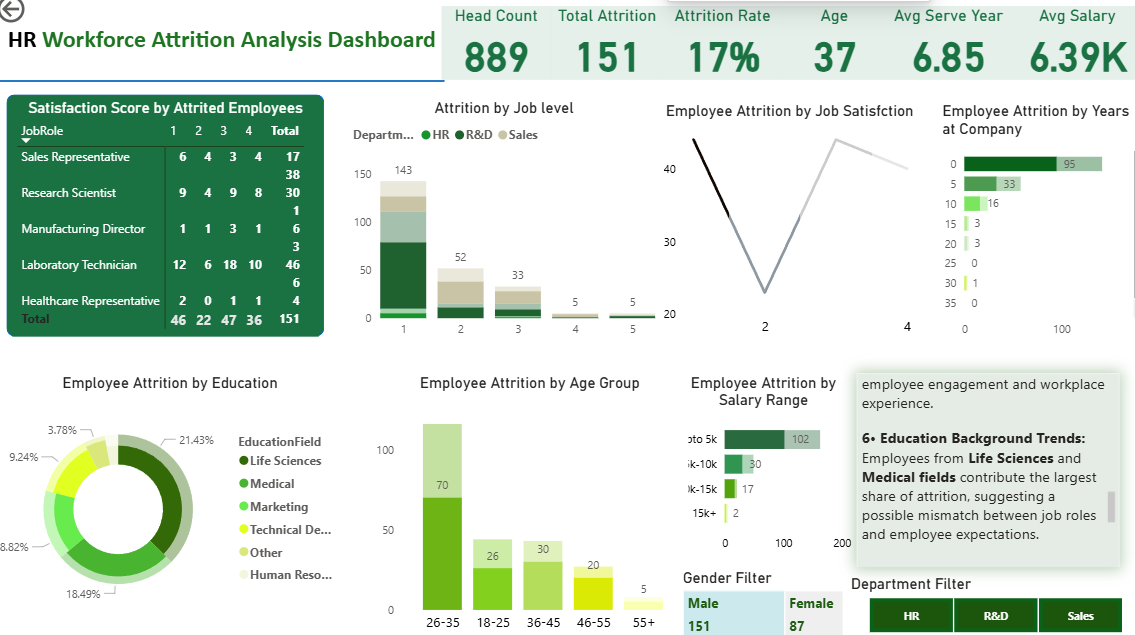

This screenshot's page, from the dashboard's own definition file:
{"tool":"powerbi","page":{"name":"HR ATTRITION DASHBOARD","canvas":[1280,720],"ordinal":0},"visuals":[{"type":"shape","box":[14.6,115,353,268.8],"z":0},{"type":"card","title":"Total Attrition","fields":{"Values":["Sum(HR_Analytics.Attrition_Count)"]},"box":[620,16.7,125,81.7],"z":1000},{"type":"card","title":"Attrition Rate","fields":{"Values":["HR_Analytics.Attrition_Rate"]},"box":[745,16.7,131.7,81.7],"z":2000},{"type":"card","title":"Age","fields":{"Values":["HR_Analytics.avg_age"]},"box":[876.7,16.7,116.7,81.7],"z":3000},{"type":"card","title":"Head Count","fields":{"Values":["CountNonNull(HR_Analytics.EmpID)"]},"box":[498.3,16.7,121.7,81.7],"z":4000},{"type":"actionButton","box":[0,0,100,40],"z":5000},{"type":"pivotTable","title":"Satisfaction Score by Attrited Employees","fields":{"Rows":["HR_Analytics.JobRole"],"Columns":["HR_Analytics.JobSatisfaction"],"Values":["Sum(HR_Analytics.Attrition_Count)"]},"box":[21,119.8,340,263.9],"z":6000},{"type":"card","title":"Avg Salary","fields":{"Values":["Avg(HR_Analytics.MonthlyIncome)"]},"box":[1130,16.7,150,81.7],"z":7000},{"type":"card","title":"Avg Serve Year","fields":{"Values":["Avg(HR_Analytics.YearsAtCompany)"]},"box":[993.3,16.7,136.7,81.7],"z":8000},{"type":"barChart","title":"Employee Attrition by Salary Range","fields":{"Y":["Sum(HR_Analytics.Attrition_Count)"],"Category":["HR_Analytics.SalarySlab"]},"box":[751.3,424.2,208.9,215.4],"z":9000},{"type":"donutChart","title":"Employee Attrition by Education","fields":{"Y":["Sum(HR_Analytics.Attrition_Count)"],"Category":["HR_Analytics.EducationField"]},"box":[0,424.2,393.5,281.7],"z":10000},{"type":"columnChart","title":" Employee Attrition by Age Group","fields":{"Category":["HR_Analytics.AgeGroup"],"Y":["Sum(HR_Analytics.Attrition_Count)"]},"box":[419.4,424.2,353,296.3],"z":11000},{"type":"lineChart","title":"Employee Attrition by Job Satisfction","fields":{"Y":["Sum(HR_Analytics.Attrition_Count)"],"Category":["HR_Analytics.EnvironmentSatisfaction"]},"box":[740,122.8,290.5,269.7],"z":12000},{"type":"columnChart","title":"Attrition by Job level","fields":{"Category":["HR_Analytics.JobLevel"],"Y":["Sum(HR_Analytics.Attrition_Count)"],"Series":["HR_Analytics.Department"]},"box":[394.2,119.3,345.8,273.2],"z":13000},{"type":"treemap","title":"Gender Filter","fields":{"Group":["HR_Analytics.Gender"],"Values":["Sum(HR_Analytics.Attrition_Count)"]},"box":[761,641.2,187.8,79.3],"z":14000},{"type":"slicer","title":"Department Filter","fields":{"Values":["HR_Analytics.Department"]},"box":[948.9,647.7,330.3,71.2],"z":15000},{"type":"textbox","box":[0,13,508.4,89.1],"z":16000},{"type":"textbox","box":[960.2,424.2,291.5,215.4],"z":17000},{"type":"shape","box":[0,33.3,501.7,133.3],"z":18000},{"type":"barChart","title":"Employee Attrition by Years at Company","fields":{"Y":["Sum(HR_Analytics.Attrition_Count)"],"Category":["HR_Analytics.YearsAtCompany (bins)"]},"box":[1049.3,123.1,229.9,270.4],"z":19000}]}

Visuals, with their boxes in screenshot pixels (x1, y1, x2, y2), scaled from the page's 1280x720 canvas onto the 1135x635 screenshot:
shape: (13, 101, 326, 338)
"Total Attrition" card: (550, 15, 661, 87)
"Attrition Rate" card: (661, 15, 777, 87)
"Age" card: (777, 15, 881, 87)
"Head Count" card: (442, 15, 550, 87)
actionButton: (0, 0, 89, 35)
"Satisfaction Score by Attrited Employees" pivotTable: (19, 106, 320, 338)
"Avg Salary" card: (1002, 15, 1134, 87)
"Avg Serve Year" card: (881, 15, 1002, 87)
"Employee Attrition by Salary Range" barChart: (666, 374, 851, 564)
"Employee Attrition by Education" donutChart: (0, 374, 349, 623)
" Employee Attrition by Age Group" columnChart: (372, 374, 685, 634)
"Employee Attrition by Job Satisfction" lineChart: (656, 108, 914, 346)
"Attrition by Job level" columnChart: (350, 105, 656, 346)
"Gender Filter" treemap: (675, 566, 841, 634)
"Department Filter" slicer: (841, 571, 1134, 634)
textbox: (0, 11, 451, 90)
textbox: (851, 374, 1110, 564)
shape: (0, 29, 445, 147)
"Employee Attrition by Years at Company" barChart: (930, 109, 1134, 347)
